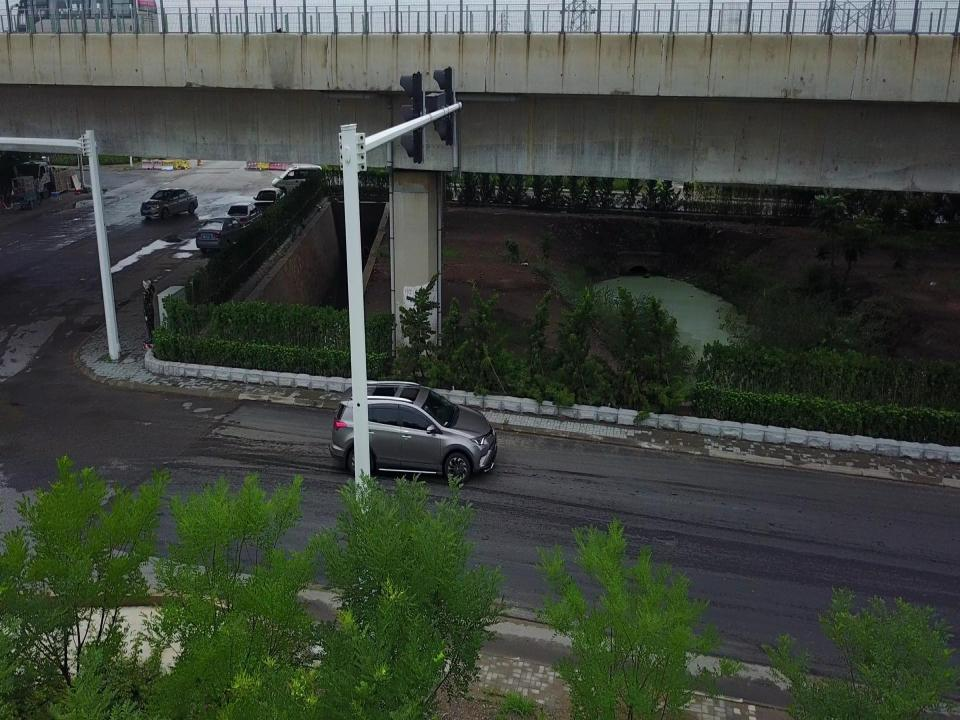bus: (9, 0, 160, 48)
car: (324, 377, 497, 488), (195, 215, 247, 254), (141, 186, 199, 220), (224, 200, 266, 233), (12, 174, 42, 210), (252, 186, 287, 216)
truck: (22, 158, 80, 194)
van: (271, 165, 325, 195)
